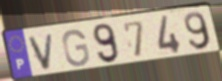4: (156, 14, 182, 55)
7: (122, 19, 145, 59)
9: (92, 22, 121, 65), (182, 10, 212, 51)
G: (61, 28, 92, 68)
V: (27, 31, 56, 72)
